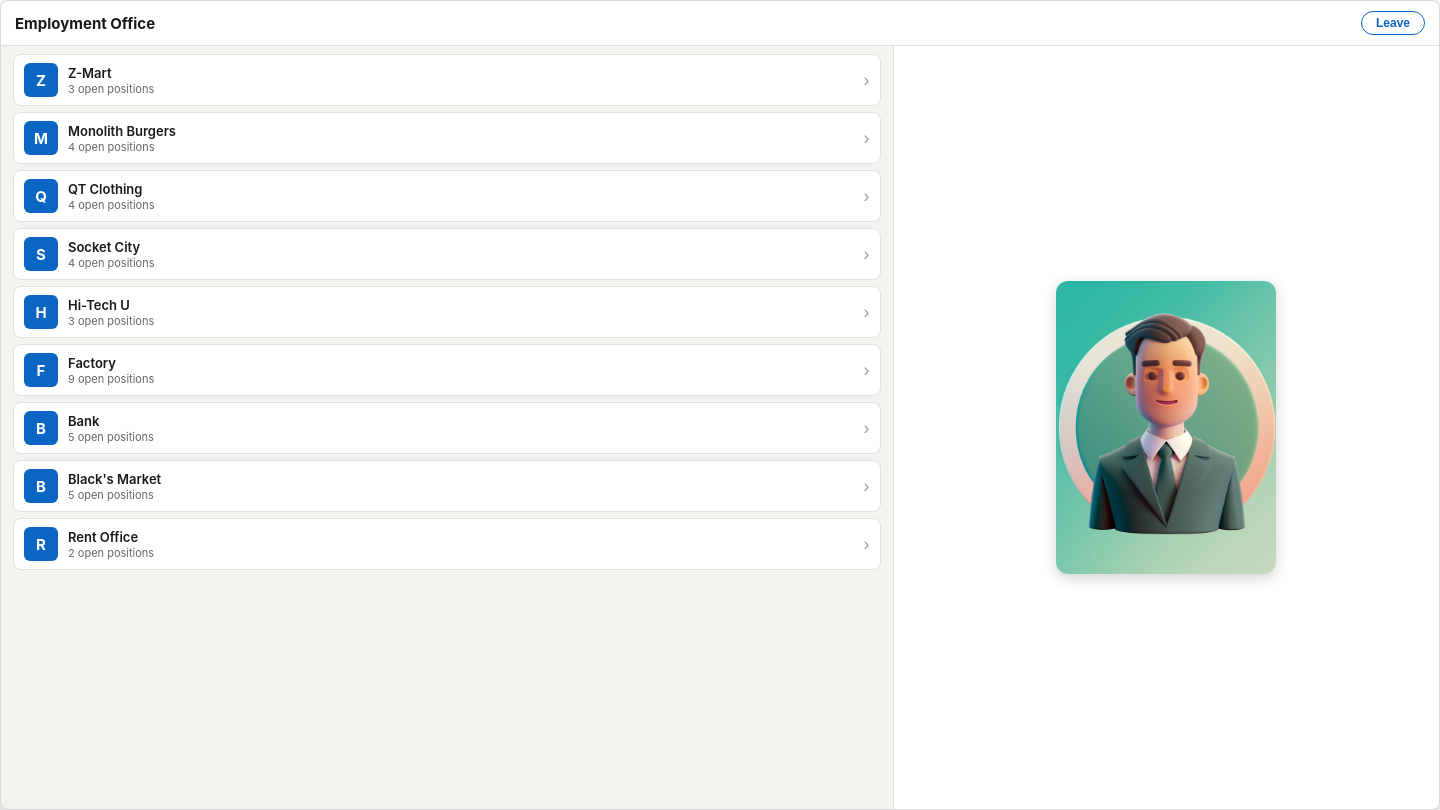
Test: EmploymentOfficeScreen › shows a HIRED notification after a successful application
Click the text "Monolith Burgers".
click(122, 130)  # box [68,122,176,138]
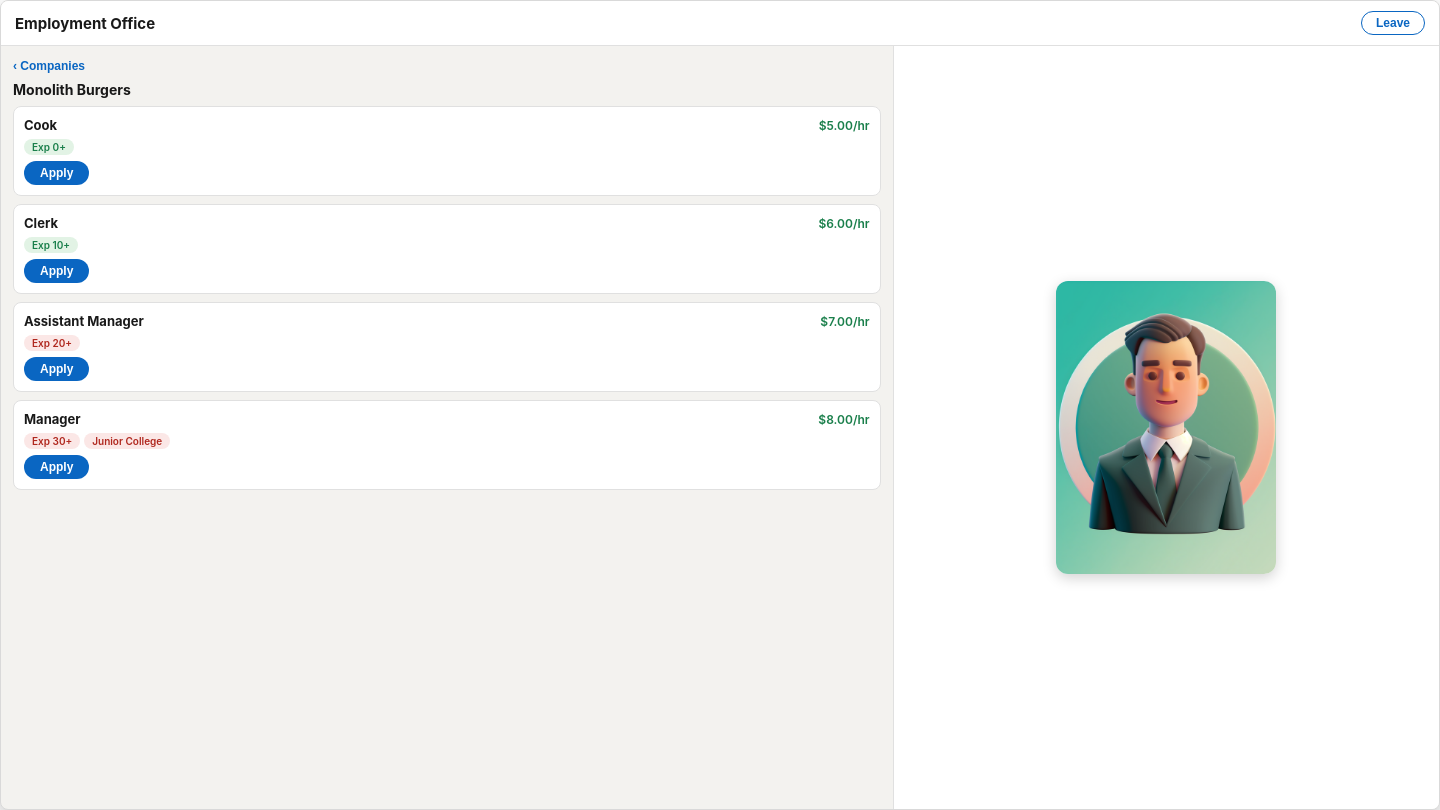
Click the button "Apply" below "Cook".
click(57, 173)  # box [24,161,89,185]
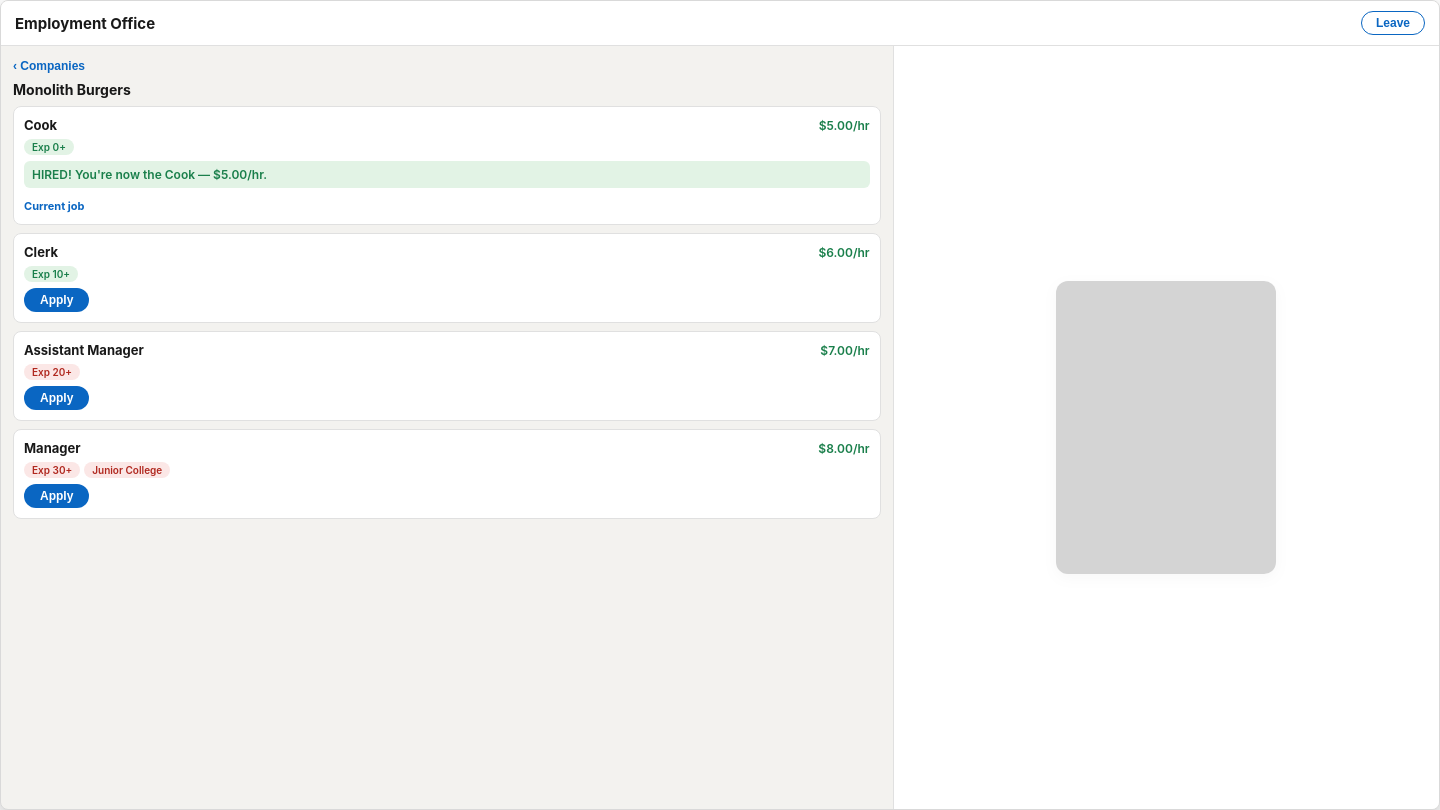
Expected: the text "HIRED! You're now the Cook — $5.00/hr." is shown, [24,161,870,188]
